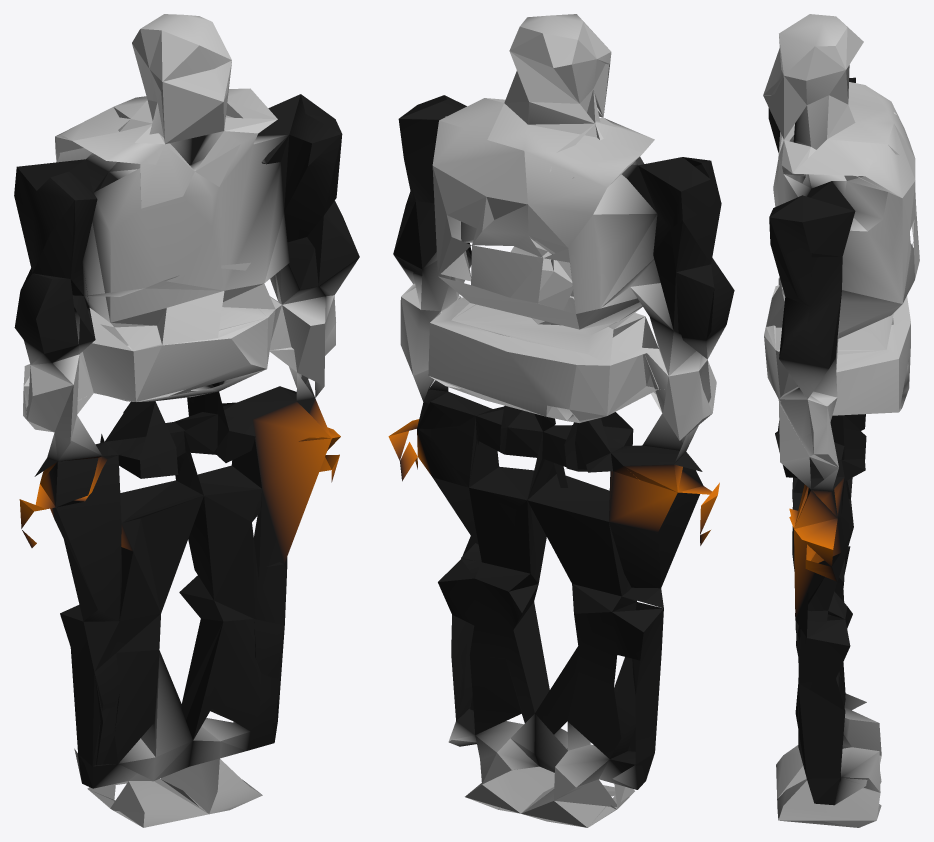
The model's file is pal-talos.l2.glb.
The picture shows the model from 3 angles, left to right: view 1: azimuth 30°, elevation 25°; view 2: azimuth 150°, elevation 25°; view 3: azimuth 270°, elevation 25°; orthographic projection.
Visible parts, largest first — view 1: pal-talos__l2; view 2: pal-talos__l2; view 3: pal-talos__l2.
Part boxes in pixels (box(x1,y1,x2,y2)): pal-talos__l2: box(14, 14, 359, 827); pal-talos__l2: box(388, 14, 734, 827); pal-talos__l2: box(763, 14, 919, 827).
Size of the model in its own units: 0.7536 by 1.75 by 0.3209.
